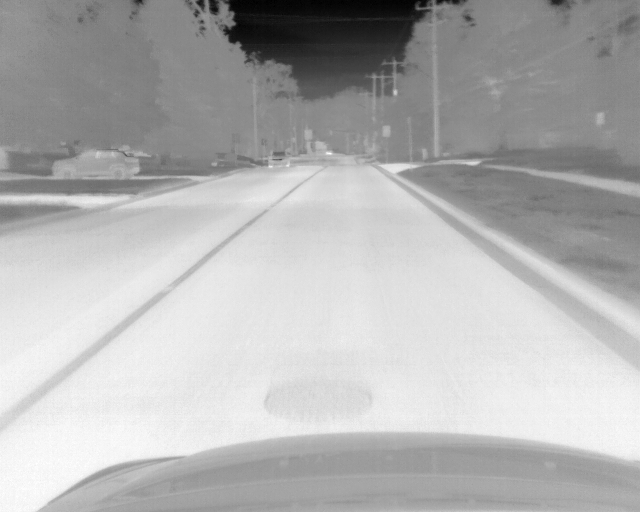car: (51, 148, 138, 181), (266, 150, 289, 168)
